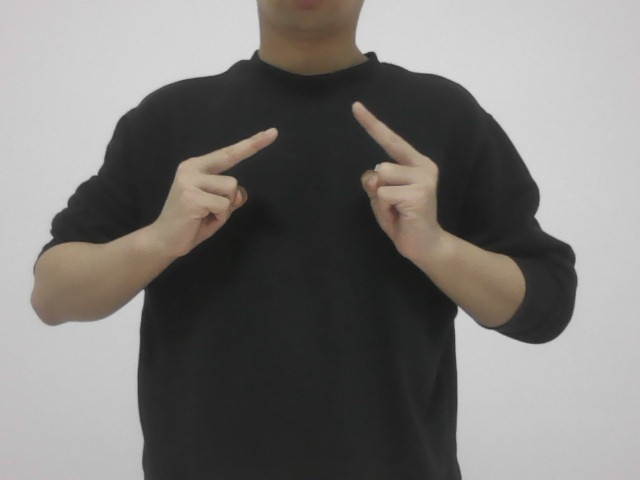know: (162, 91, 448, 288)
